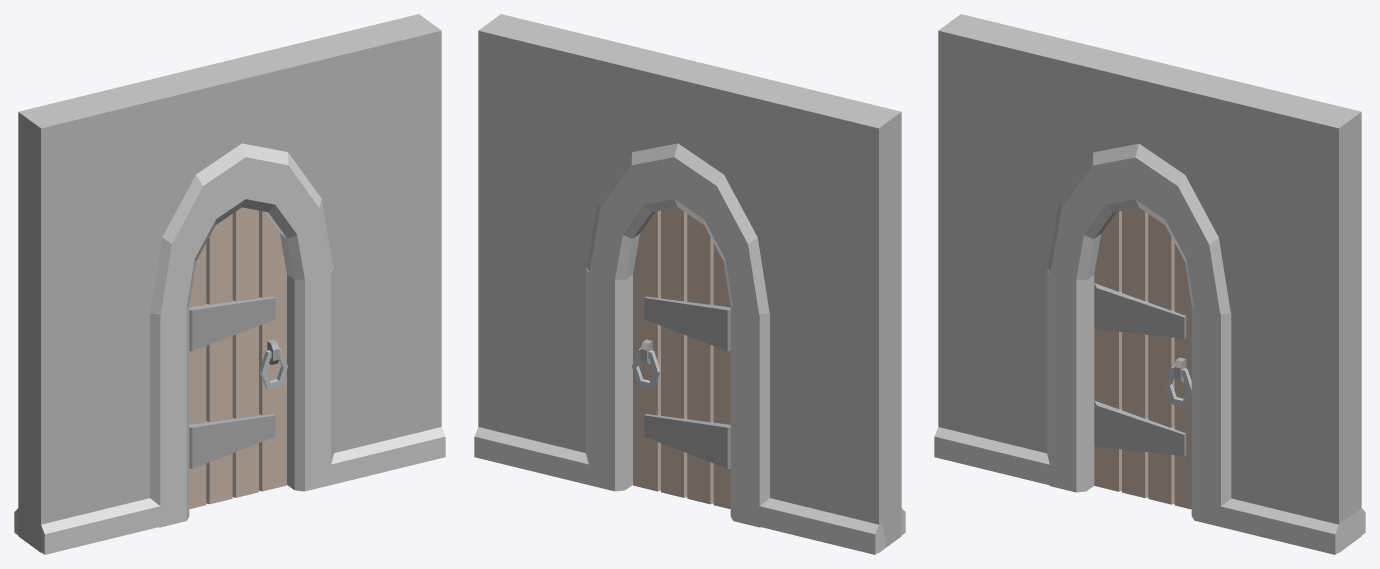
Rendered from south-door.glb.
3 views of the same model, side by side, from view 1: azimuth 30°, elevation 25°; view 2: azimuth 150°, elevation 25°; view 3: azimuth 330°, elevation 25° (orthographic).
Visible parts, largest first — view 1: object1.064, object1.070, object6.001, object2.007, object2.005, object4.003, object3.003, object1.069, object2.006, object2.004, object1.063, object3.002; view 2: object1.064, object1.070, object6.001, object2.007, object2.005, object4.003, object3.003, object1.069, object2.006, object2.004, object1.063, object4.002; view 3: object1.064, object2.007, object1.070, object6.001, object2.005, object3.003, object4.003, object2.006, object1.069, object1.063, object2.004, object3.002.
Part boxes in pixels (x1=…): object1.064: x1=18, y1=14, x2=441, y2=340; object1.070: x1=18, y1=313, x2=149, y2=552; object6.001: x1=189, y1=207, x2=286, y2=509; object2.007: x1=334, y1=242, x2=441, y2=452; object2.005: x1=150, y1=143, x2=333, y2=315; object4.003: x1=287, y1=267, x2=333, y2=491; object3.003: x1=150, y1=306, x2=189, y2=527; object1.069: x1=14, y1=498, x2=160, y2=554; object2.006: x1=331, y1=427, x2=445, y2=484; object2.004: x1=189, y1=296, x2=275, y2=351; object1.063: x1=189, y1=414, x2=275, y2=468; object3.002: x1=259, y1=348, x2=287, y2=389; object1.064: x1=478, y1=14, x2=901, y2=340; object1.070: x1=770, y1=313, x2=901, y2=552; object6.001: x1=633, y1=207, x2=730, y2=509; object2.007: x1=478, y1=242, x2=585, y2=452; object2.005: x1=586, y1=143, x2=769, y2=315; object4.003: x1=586, y1=267, x2=632, y2=491; object3.003: x1=730, y1=306, x2=769, y2=527; object1.069: x1=759, y1=498, x2=905, y2=554; object2.006: x1=474, y1=427, x2=588, y2=484; object2.004: x1=644, y1=296, x2=730, y2=351; object1.063: x1=644, y1=414, x2=730, y2=468; object4.002: x1=632, y1=348, x2=660, y2=389; object1.064: x1=938, y1=14, x2=1361, y2=339; object2.007: x1=1231, y1=315, x2=1361, y2=552; object1.070: x1=938, y1=242, x2=1047, y2=453; object6.001: x1=1094, y1=207, x2=1191, y2=509; object2.005: x1=1047, y1=143, x2=1230, y2=314; object3.003: x1=1047, y1=269, x2=1094, y2=492; object4.003: x1=1191, y1=306, x2=1231, y2=526; object2.006: x1=1221, y1=498, x2=1365, y2=554; object1.069: x1=934, y1=427, x2=1049, y2=485; object1.063: x1=1094, y1=400, x2=1186, y2=456; object2.004: x1=1094, y1=283, x2=1186, y2=338; object3.002: x1=1165, y1=366, x2=1191, y2=407.
Size of the model in its own units: 3.05 by 3.09 by 0.4.
